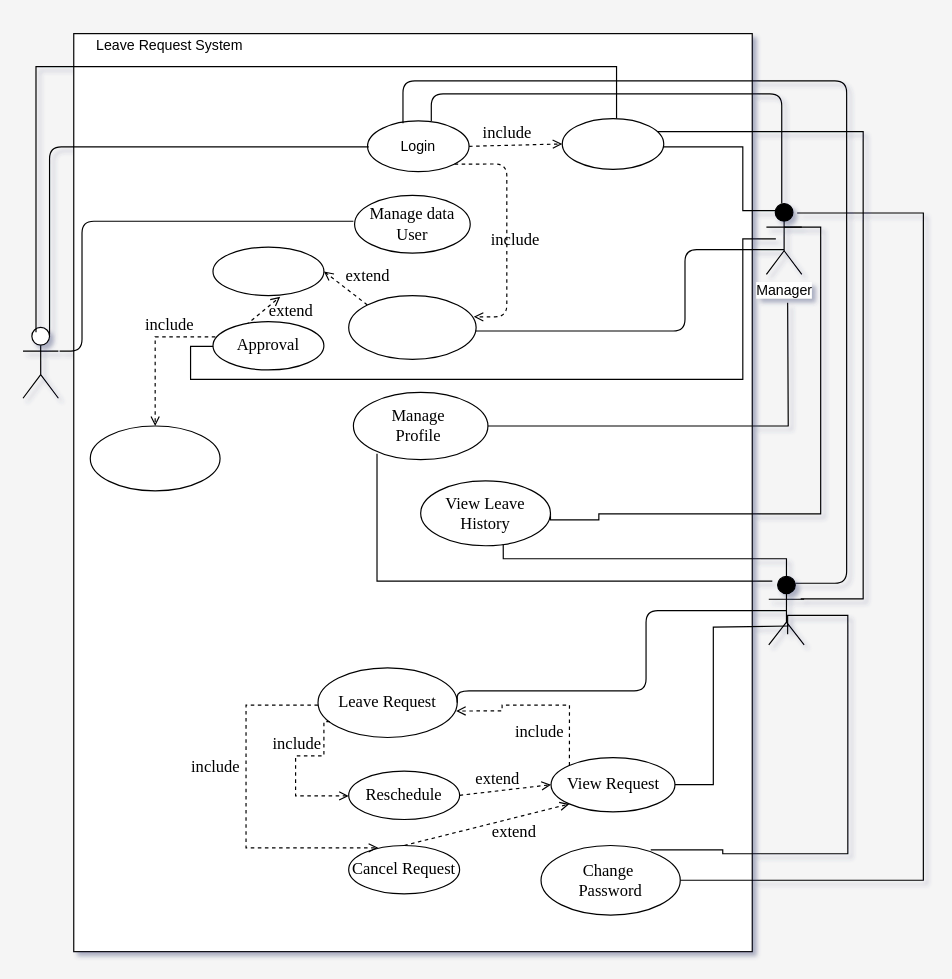
Image size: 952x979. Some labels were removed from this diagram. The shapes that lost their labels are listed below. From the top down, each one's box as (x1, y1, x2, y2) in pixels, then its label:
(561, 117, 664, 169): Logout
(212, 246, 324, 296): View detail
(348, 294, 476, 359): View Leave Request List
(22, 326, 58, 398): Admin
(89, 425, 220, 491): Send Notification
(768, 575, 804, 645): Employee
